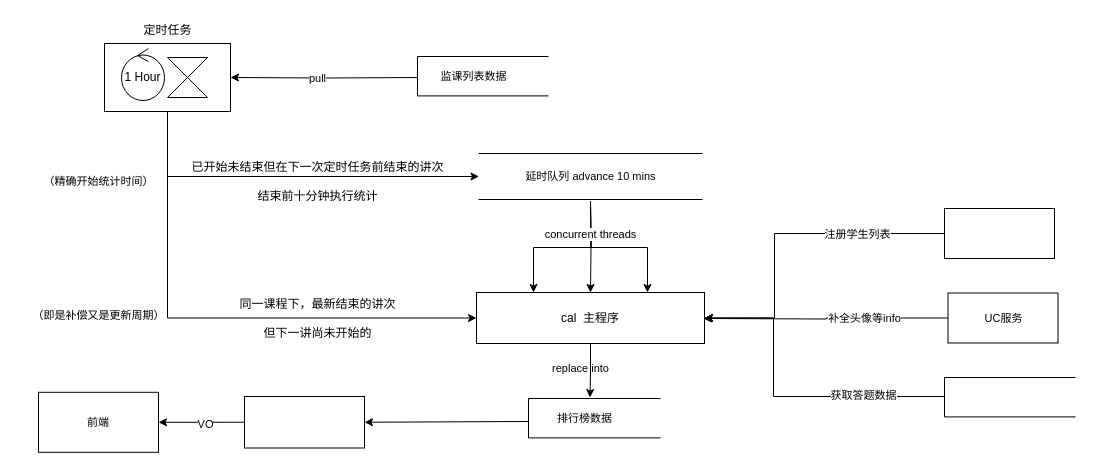
Some shapes in this 1093 by 470 pixel diagram are drawn without their labels. The shapes that lost their labels are listed below. From the top down, each one's centre as x and y in pixels, then its label:
At (x=999, y=233): "业务系统".
At (x=1010, y=396): "学生答题数据".
At (x=304, y=422): "查询接口".
